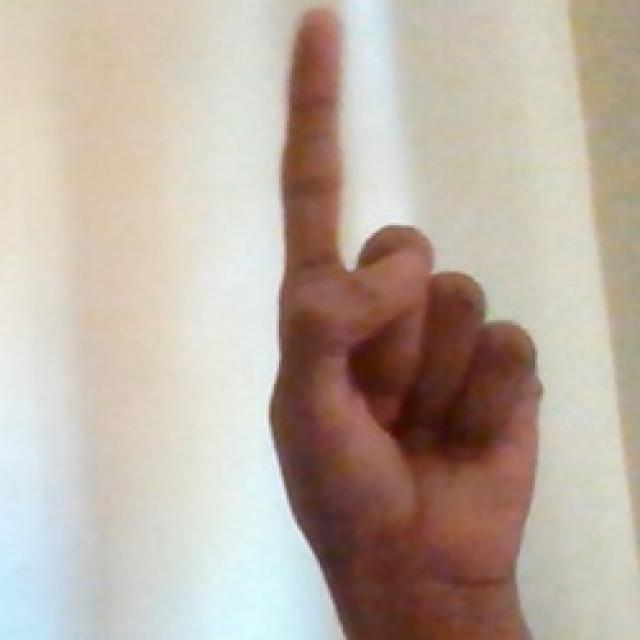Numeric-1: (282, 8, 539, 611)
